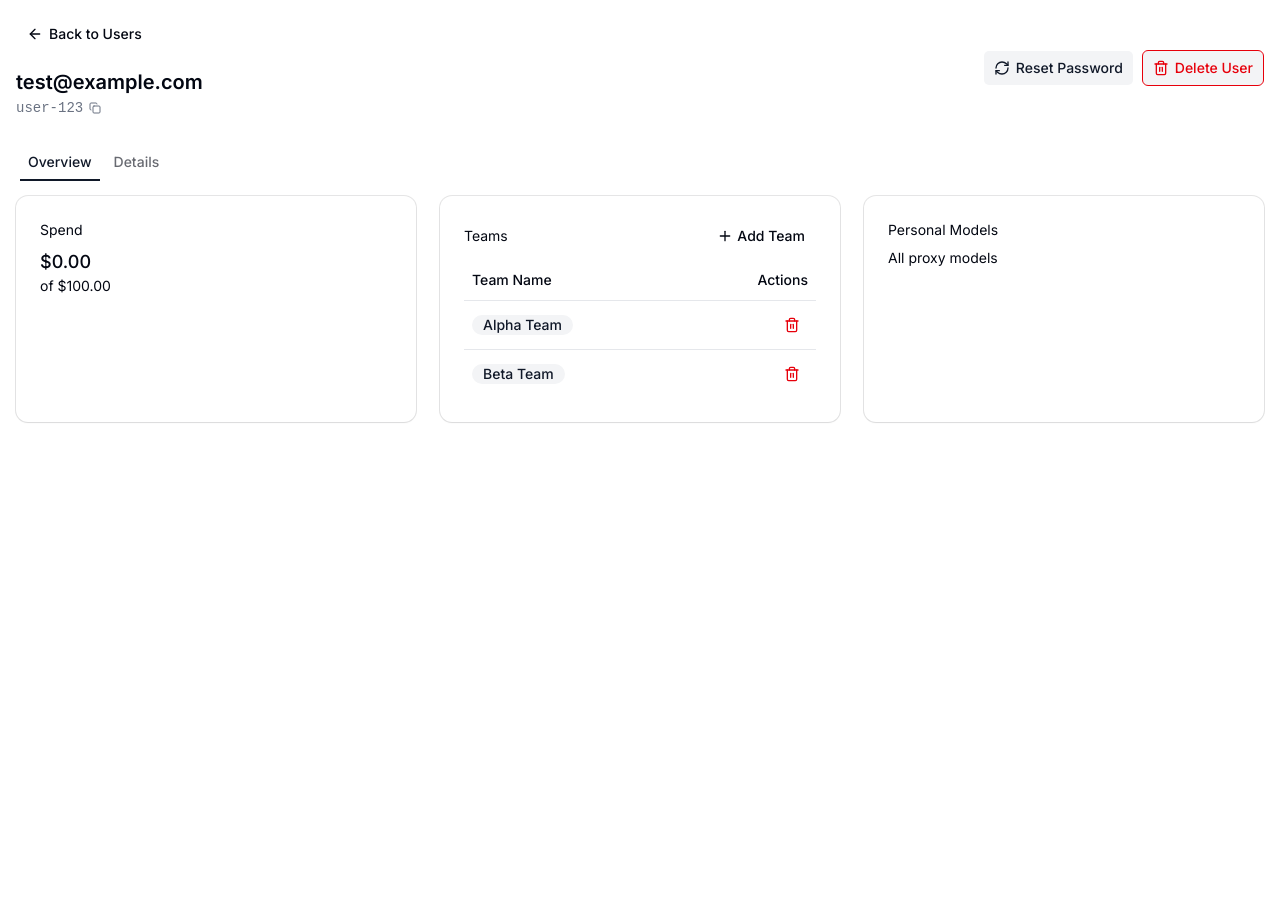
Test: UserInfoView › should open remove confirmation modal when delete is clicked
Expected: the link "Alpha Team" is shown, x1=472 y1=314 x2=573 y2=334
# Find the row with Alpha Team and click its delete button
Click the button named "Remove from Alpha Team" at (792, 324), box x1=776 y1=308 x2=808 y2=340
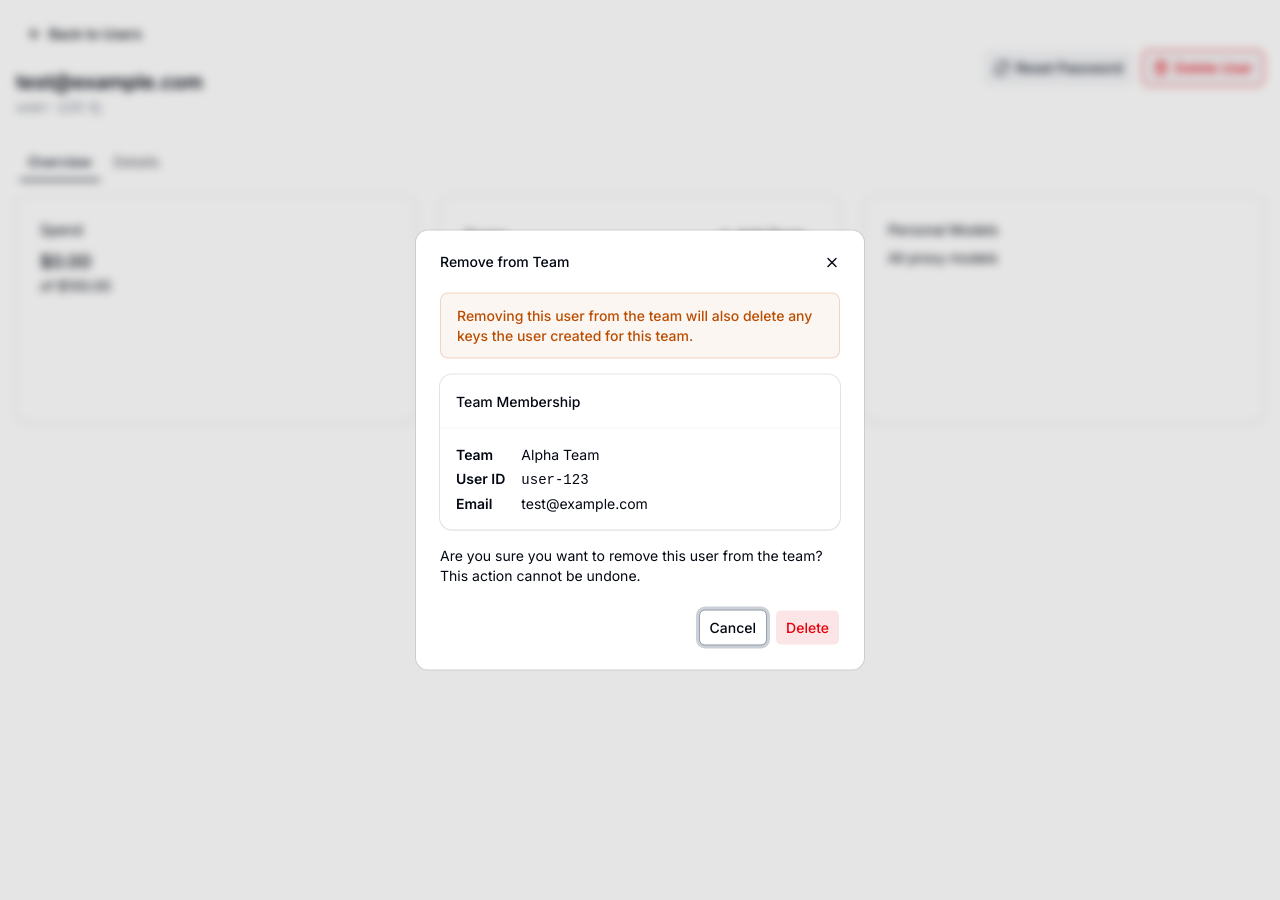
Expected: the heading "Remove from Team" is shown, x1=440 y1=252 x2=569 y2=270
Expected: the text "Removing this user from the team will also delete any keys" is shown, x1=457 y1=306 x2=812 y2=344
